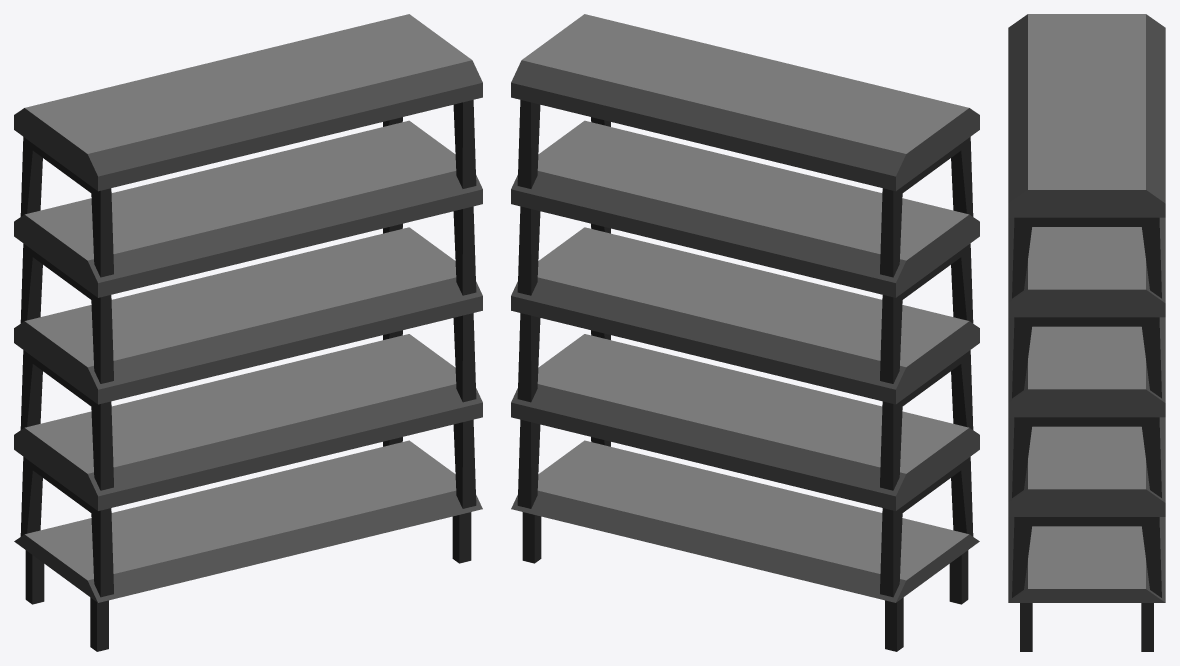
The model's file is ShelfMini.fbx.
The picture shows the model from 3 angles, left to right: view 1: azimuth 30°, elevation 25°; view 2: azimuth 150°, elevation 25°; view 3: azimuth 270°, elevation 25°; orthographic projection. The views are drawn at different scales.
Parts seen in each view (by area): view 1: ShelfMini; view 2: ShelfMini; view 3: ShelfMini.
Boxes of the visible parts, bbox=[...] form: ShelfMini: bbox=[14, 14, 482, 651]; ShelfMini: bbox=[511, 14, 979, 651]; ShelfMini: bbox=[1008, 14, 1165, 651].
Bounding box in the file's own units: 109 × 134 × 41.2.
